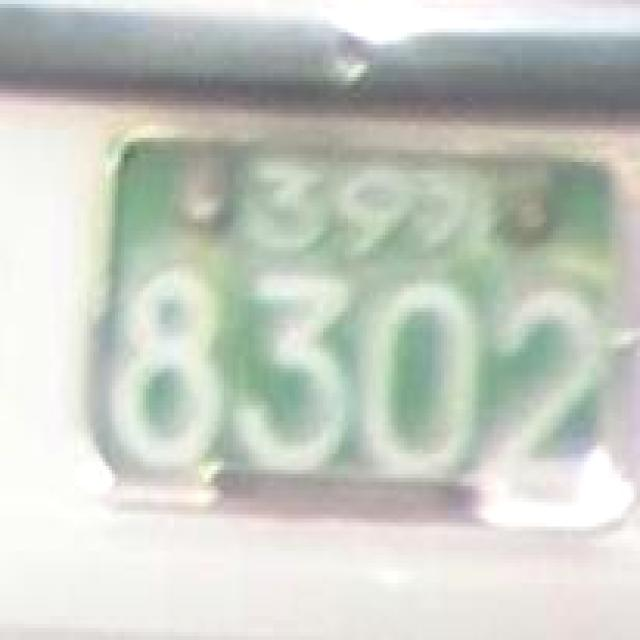illegal_plate: (77, 116, 628, 543)
